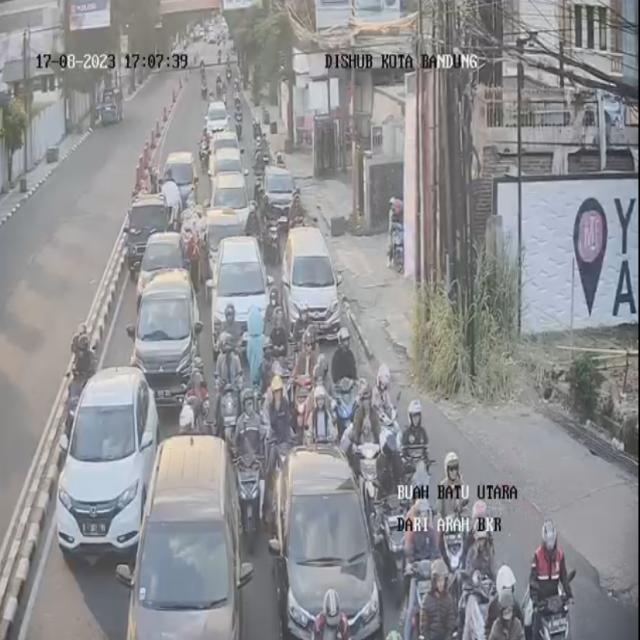cars: (119, 433, 248, 637), (269, 447, 380, 640), (54, 363, 160, 551), (135, 270, 203, 406), (212, 232, 274, 344), (281, 227, 338, 340), (127, 189, 179, 266), (141, 232, 199, 292), (199, 200, 241, 272), (214, 164, 250, 232), (260, 161, 295, 222), (163, 151, 198, 208), (210, 130, 241, 167), (205, 98, 232, 140)
motorcycle: (530, 517, 580, 639), (397, 501, 439, 639), (432, 449, 474, 577), (234, 402, 270, 538), (459, 508, 496, 635), (326, 323, 362, 445), (413, 560, 461, 639), (402, 402, 432, 525), (214, 321, 242, 440), (482, 567, 526, 638), (371, 364, 398, 473), (300, 589, 354, 640), (262, 305, 290, 403), (191, 354, 213, 434), (288, 186, 308, 232)
